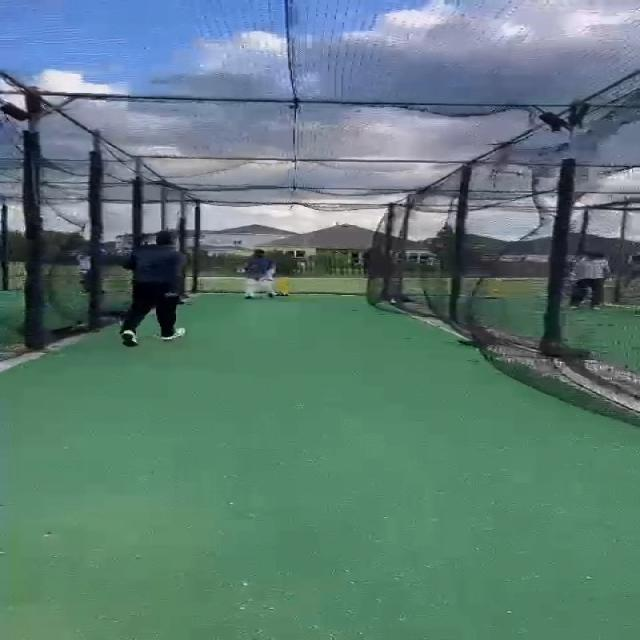batsman: (234, 249, 280, 300)
